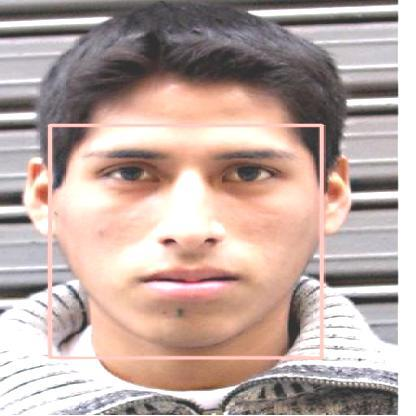without_mask: (49, 125, 321, 357)
